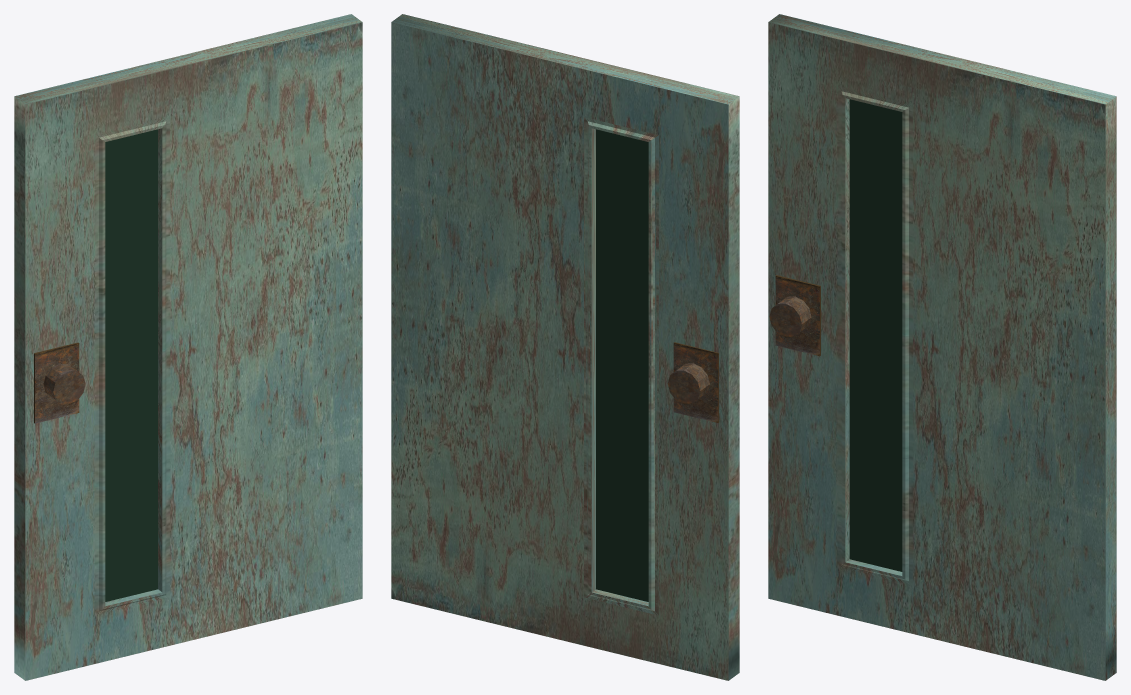
Rendered from DOORSCOPEN.fbx.
3 renders of one model, left to right at view 1: azimuth 30°, elevation 25°; view 2: azimuth 150°, elevation 25°; view 3: azimuth 330°, elevation 25°, orthographic.
Parts seen in each view (by area): view 1: DOORSCLOSE.001; view 2: DOORSCLOSE.001; view 3: DOORSCLOSE.001.
Boxes of the visible parts, x1=… form: DOORSCLOSE.001: x1=14, y1=14, x2=362, y2=680; DOORSCLOSE.001: x1=391, y1=14, x2=739, y2=680; DOORSCLOSE.001: x1=768, y1=14, x2=1116, y2=680.
Bounding box in the file's own units: 497 × 811 × 95.71.
Materials: 3 (2 with a texture image).
